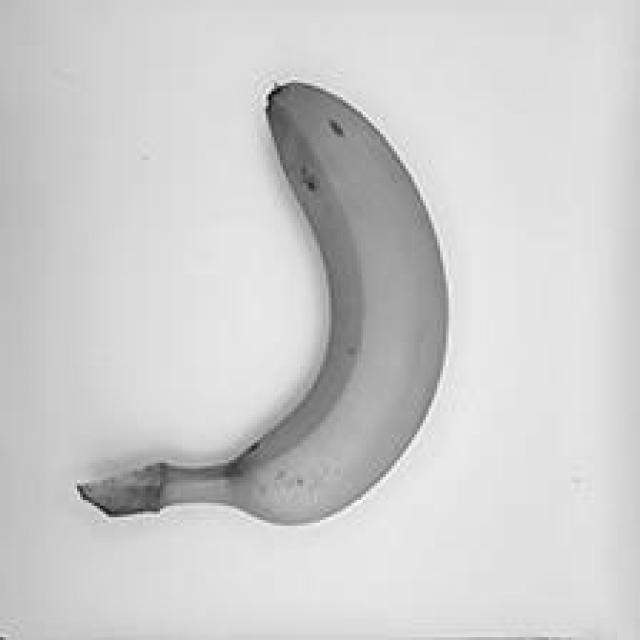Unripe: (81, 69, 446, 541)
